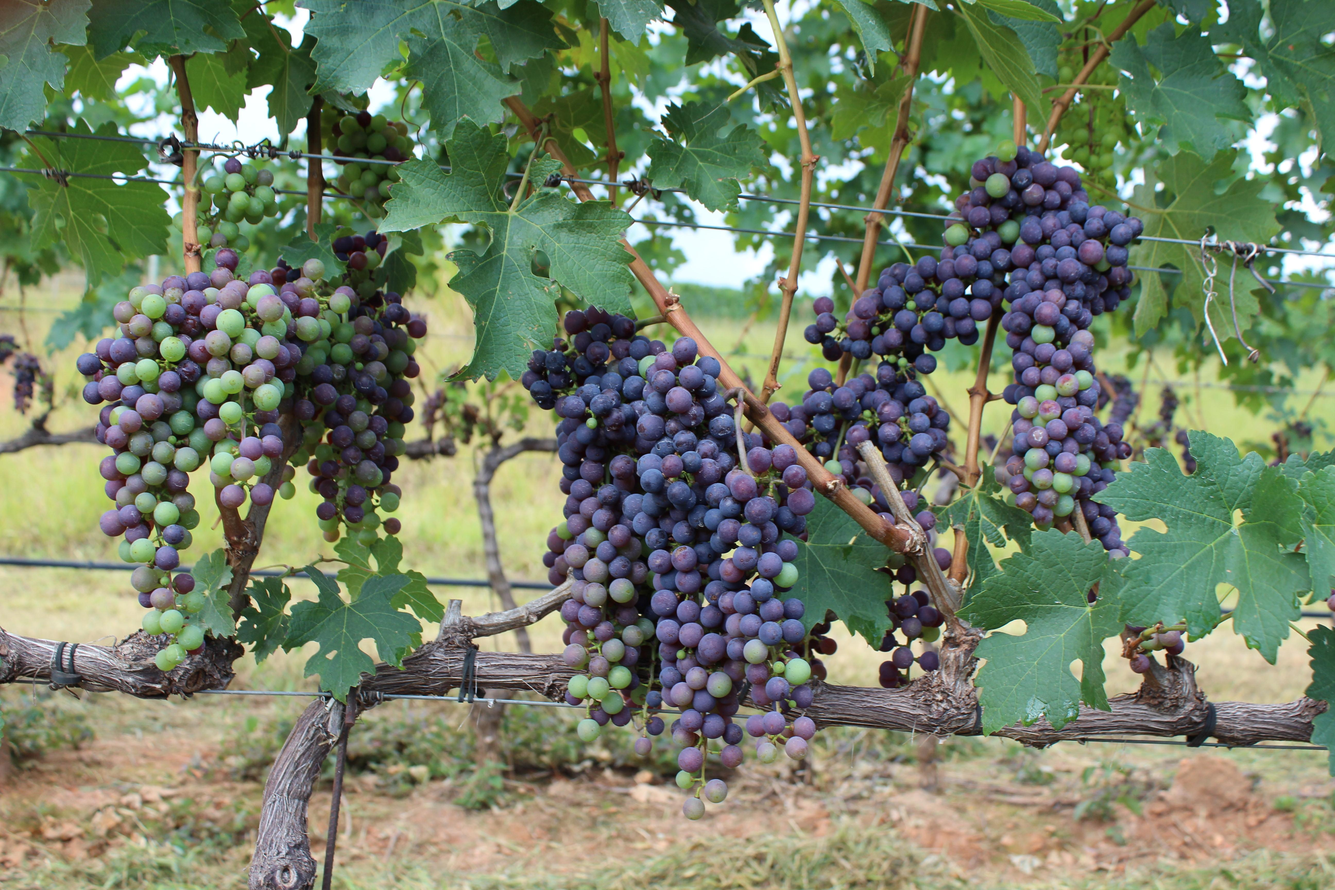leaf: (380, 120, 631, 379), (1095, 431, 1310, 663), (960, 529, 1121, 733), (1109, 22, 1251, 157), (1210, 0, 1335, 152), (283, 564, 421, 701), (28, 176, 170, 285), (791, 498, 891, 648), (1131, 151, 1280, 244), (647, 101, 767, 211), (935, 467, 1032, 590), (0, 0, 90, 132), (959, 5, 1049, 118), (89, 0, 245, 58), (242, 12, 316, 134), (44, 266, 142, 353), (1132, 240, 1205, 322), (990, 0, 1062, 80), (831, 73, 911, 140), (59, 45, 147, 101), (1298, 466, 1335, 598), (237, 578, 290, 663), (31, 137, 146, 176), (1305, 626, 1335, 774), (191, 548, 236, 637), (185, 54, 247, 118), (279, 222, 346, 279), (595, 0, 663, 43), (1134, 273, 1167, 336), (972, 0, 1062, 22), (1211, 261, 1233, 338), (1234, 287, 1259, 330), (72, 120, 93, 134), (97, 122, 118, 135), (533, 162, 546, 183), (542, 159, 556, 172), (27, 153, 40, 165), (854, 0, 860, 2), (966, 0, 970, 2), (859, 0, 860, 2)
